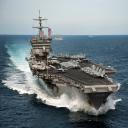Portanaves: (27, 9, 119, 113)
